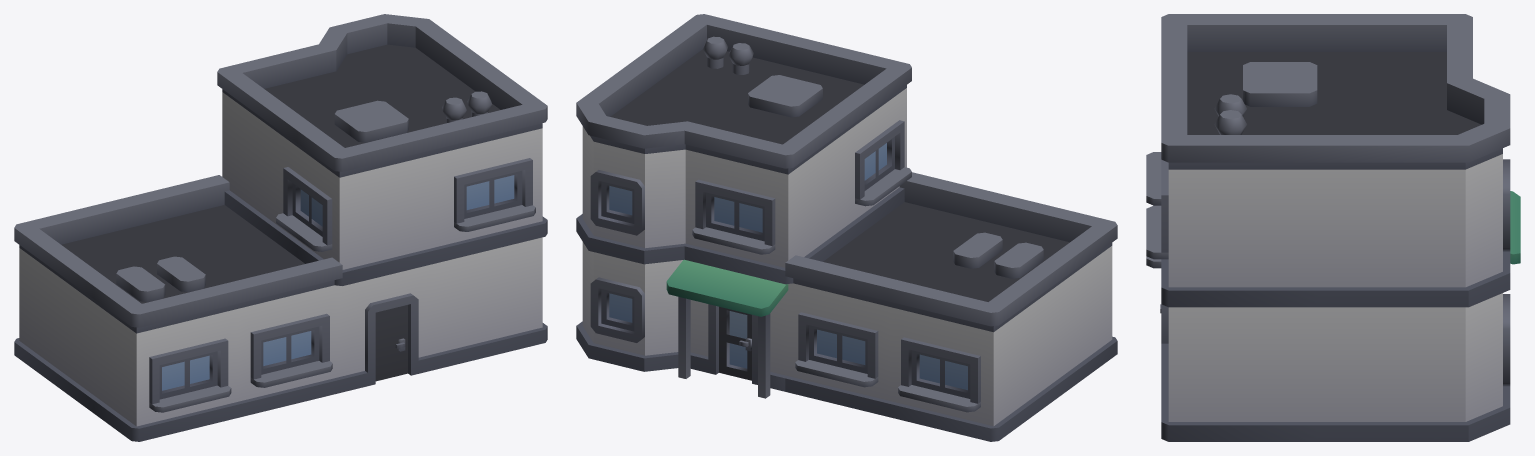
Rendered from apartment-02.glb.
The picture shows the model from 3 angles, left to right: view 1: azimuth 30°, elevation 25°; view 2: azimuth 150°, elevation 25°; view 3: azimuth 270°, elevation 25°; orthographic projection. The views are drawn at different scales.
Parts seen in each view (by area): view 1: apartment-02; view 2: apartment-02; view 3: apartment-02.
Boxes of the visible parts, x1=… form: apartment-02: x1=14, y1=14, x2=547, y2=441; apartment-02: x1=576, y1=14, x2=1117, y2=441; apartment-02: x1=1146, y1=14, x2=1520, y2=441.
Size of the model in its own units: 1 by 0.5445 by 0.6146.
